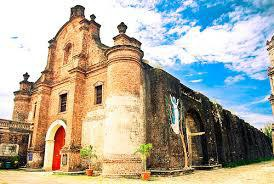santa_maria_church_santa_maria_ilocos_sur: (9, 3, 145, 181)
unfinished_paint: (79, 89, 147, 157)
